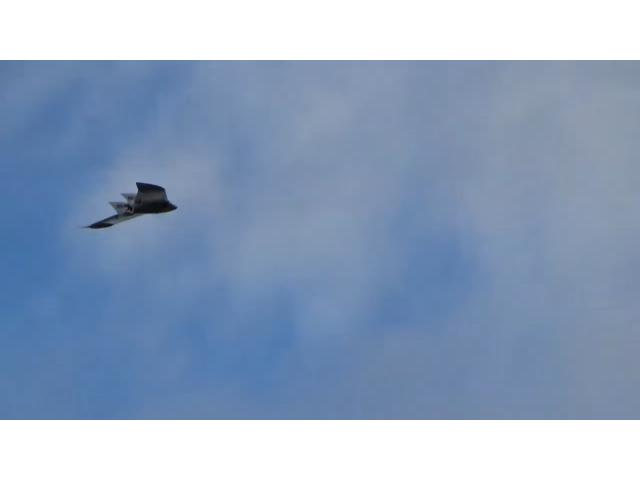Anti-Drone: (76, 182, 178, 230)
